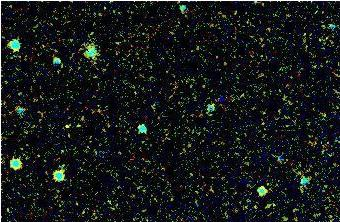star: (51, 111, 81, 141)
